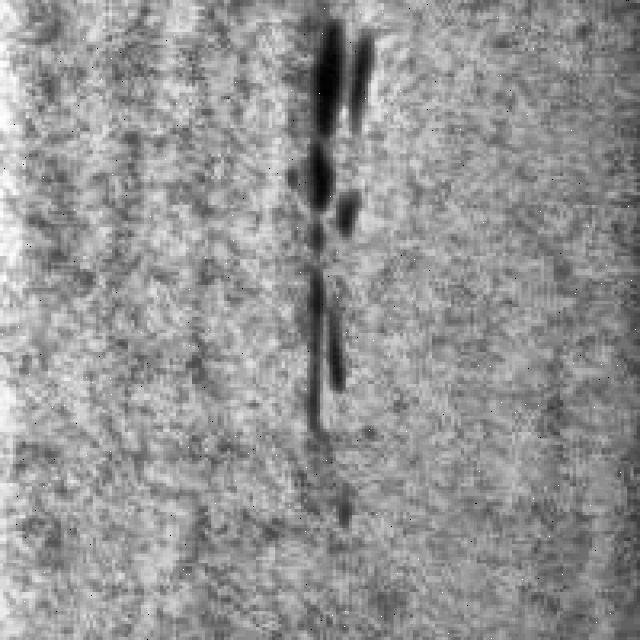Patches: (288, 134, 355, 445), (298, 3, 378, 138)
